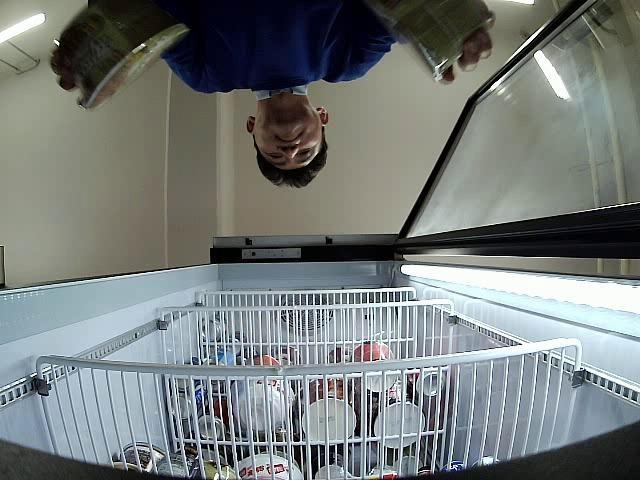03_chapagetti_L: (61, 0, 190, 111), (392, 0, 497, 81)
